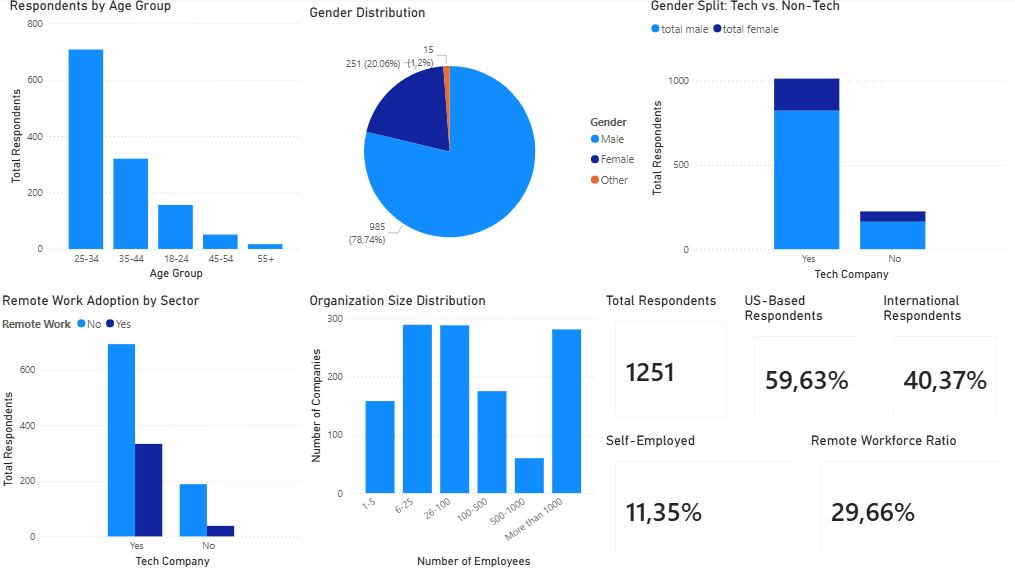

The page's visual inventory and layout, read from the dashboard file:
{"tool":"powerbi","page":{"name":"Who Are the Respondents?","canvas":[1280,720],"ordinal":1},"visuals":[{"type":"cardVisual","title":"Remote Workforce Ratio","fields":{"Data":["survey_clean.% remote worker"]},"box":[1013.5,544.7,266.5,175.1],"z":0},{"type":"cardVisual","title":"Self-Employed","fields":{"Data":["survey_clean.% self_employeed"]},"box":[756.7,544.7,256.8,175.1],"z":1000},{"type":"cardVisual","title":"International Respondents","fields":{"Data":["survey_clean.% is rest of world"]},"box":[1104.9,369.6,165.3,175.1],"z":2000},{"type":"cardVisual","title":"US-Based Respondents","fields":{"Data":["survey_clean.% is US"]},"box":[930.8,369.6,165.3,175.1],"z":3000},{"type":"columnChart","title":"Organization Size Distribution","fields":{"Category":["survey_clean.no_employees"],"Y":["CountNonNull(survey_clean.no_employees)"]},"box":[386.1,369.6,370.6,350.2],"z":6000},{"type":"clusteredColumnChart","title":"Remote Work Adoption by Sector","fields":{"Category":["survey_clean.tech_company"],"Series":["survey_clean.remote_work"],"Y":["CountNonNull(survey_clean.remote_work)"]},"box":[0,369.6,386.1,350.2],"z":7000},{"type":"lineStackedColumnComboChart","title":"Gender Split: Tech vs. Non-Tech","fields":{"Category":["survey_clean.tech_company"],"Y":["survey_clean.total male","survey_clean.total female"]},"box":[814.1,0,456.2,359.9],"z":8000},{"type":"pieChart","title":"Gender Distribution","fields":{"Category":["survey_clean.gender_clean"],"Y":["survey_clean.Total Respondents"]},"box":[386.1,9.7,428,350.2],"z":8250},{"type":"columnChart","title":"Respondents by Age Group","fields":{"Y":["survey_clean.Total Respondents"],"Category":["survey_clean.age_group"]},"box":[9.7,0,376.4,359.9],"z":8500},{"type":"cardVisual","title":"Total Respondents","fields":{"Data":["survey_clean.Total Respondents"]},"box":[756.7,369.6,174.1,175.1],"z":8501}]}

Visuals, with their boxes in screenshot pixels (x1, y1, x2, y2), scaled from the page's 1280x720 canvas onto the 1015x570 screenshot:
"Remote Workforce Ratio" cardVisual: crop(804, 431, 1014, 569)
"Self-Employed" cardVisual: crop(600, 431, 804, 569)
"International Respondents" cardVisual: crop(876, 293, 1007, 431)
"US-Based Respondents" cardVisual: crop(738, 293, 869, 431)
"Organization Size Distribution" columnChart: crop(306, 293, 600, 569)
"Remote Work Adoption by Sector" clusteredColumnChart: crop(0, 293, 306, 569)
"Gender Split: Tech vs. Non-Tech" lineStackedColumnComboChart: crop(646, 0, 1007, 285)
"Gender Distribution" pieChart: crop(306, 8, 646, 285)
"Respondents by Age Group" columnChart: crop(8, 0, 306, 285)
"Total Respondents" cardVisual: crop(600, 293, 738, 431)
